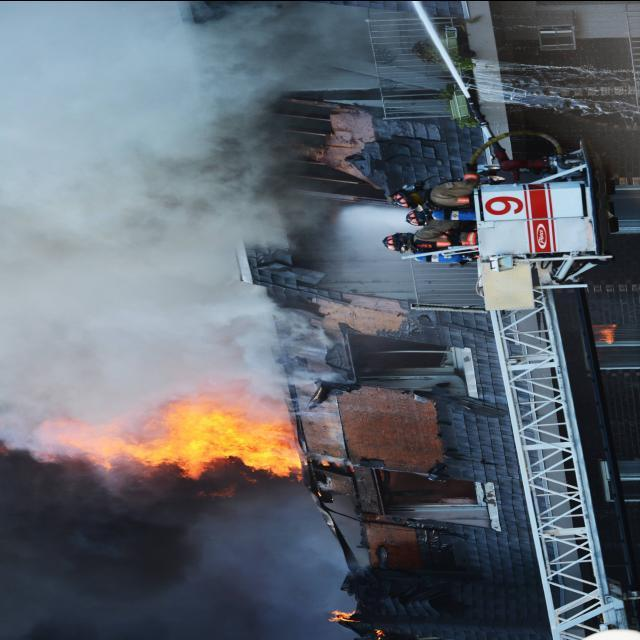Fire: (24, 374, 348, 501)
